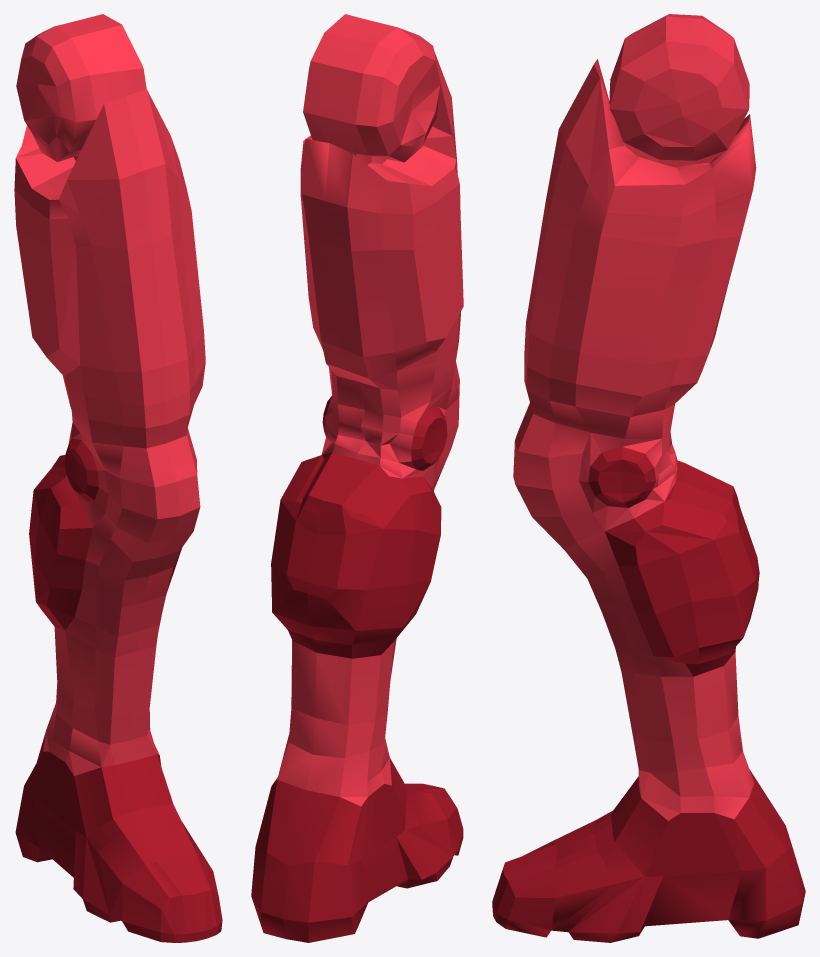
The model's file is right_leg.fbx.
3 renders of one model, left to right at view 1: azimuth 30°, elevation 25°; view 2: azimuth 150°, elevation 25°; view 3: azimuth 270°, elevation 25°, orthographic. The views are drawn at different scales.
Visible parts, largest first — view 1: right_thigh; view 2: right_thigh; view 3: right_thigh.
Boxes of the visible parts, x1,y1,x2,y2 form: right_thigh: (14, 14, 222, 942); right_thigh: (251, 14, 463, 942); right_thigh: (492, 14, 805, 942).
Bounding box in the file's own units: 0.203 × 1.13 × 0.364.
